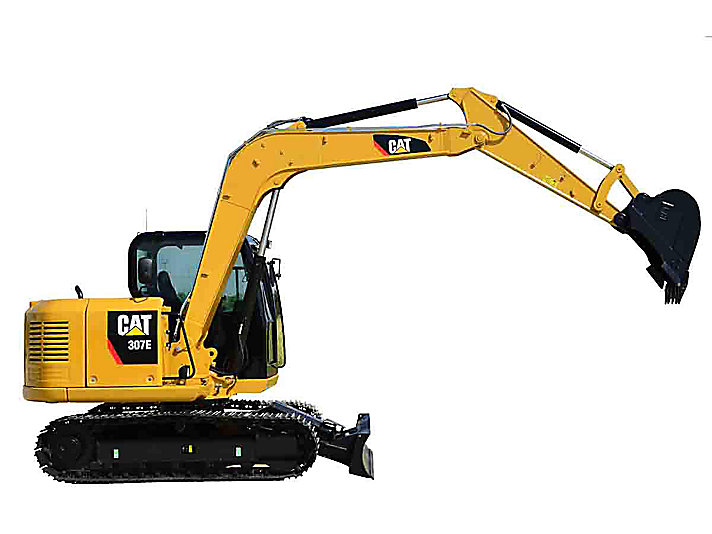backhoe: (23, 73, 705, 485)
